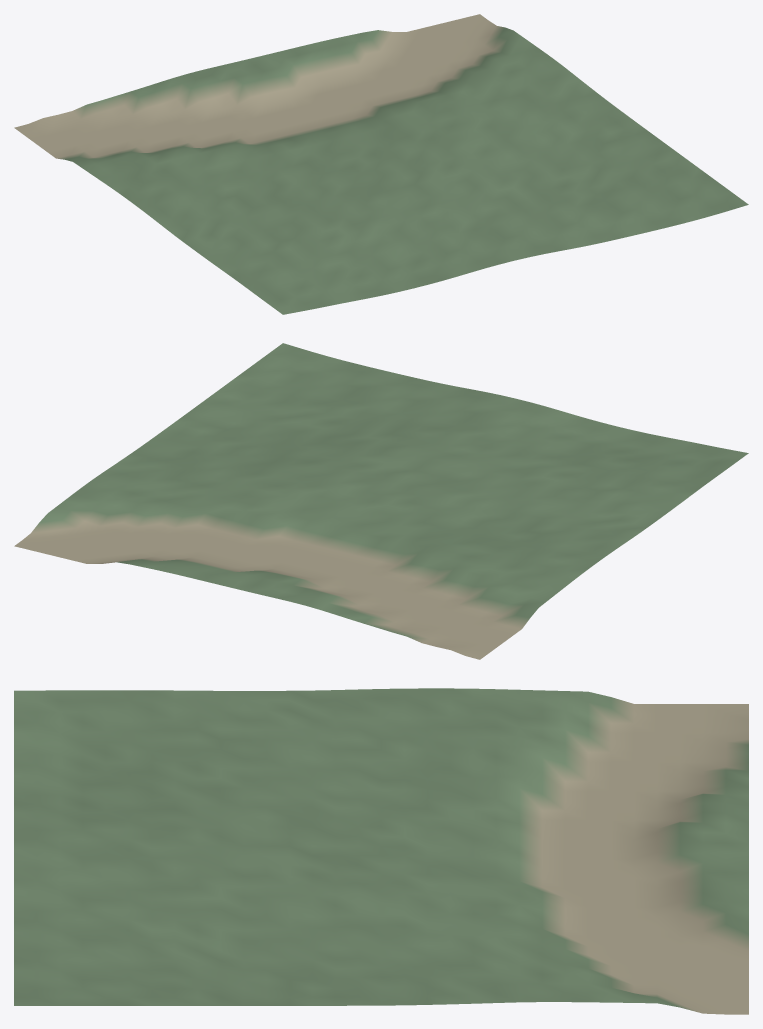
The picture shows the model from 3 angles, top to bottom: view 1: azimuth 30°, elevation 25°; view 2: azimuth 150°, elevation 25°; view 3: azimuth 270°, elevation 25°; orthographic projection. The views are drawn at different scales.
Visible parts, largest first — view 1: Terrain-col; view 2: Terrain-col; view 3: Terrain-col.
Part boxes in pixels (x1,y1,x2,y2): Terrain-col: (14,14,748,314); Terrain-col: (14,343,748,659); Terrain-col: (14,688,748,1014).
Size of the model in its own units: 256 by 6.69 by 256.
